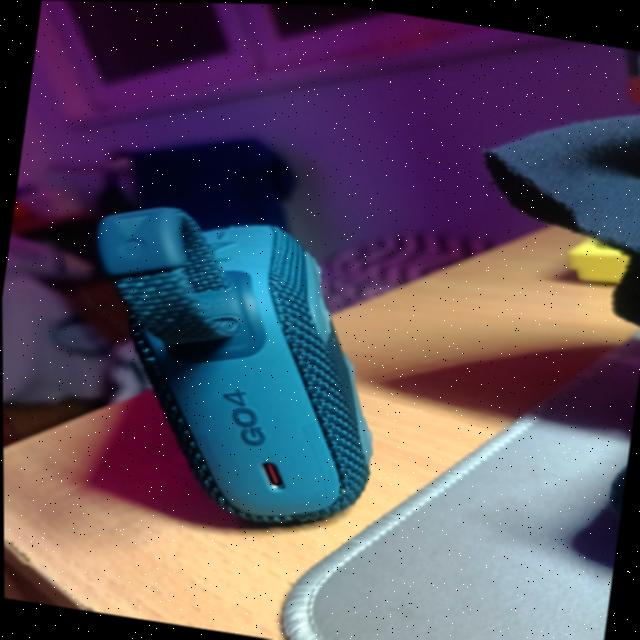column JBL: (56, 113, 416, 545)
